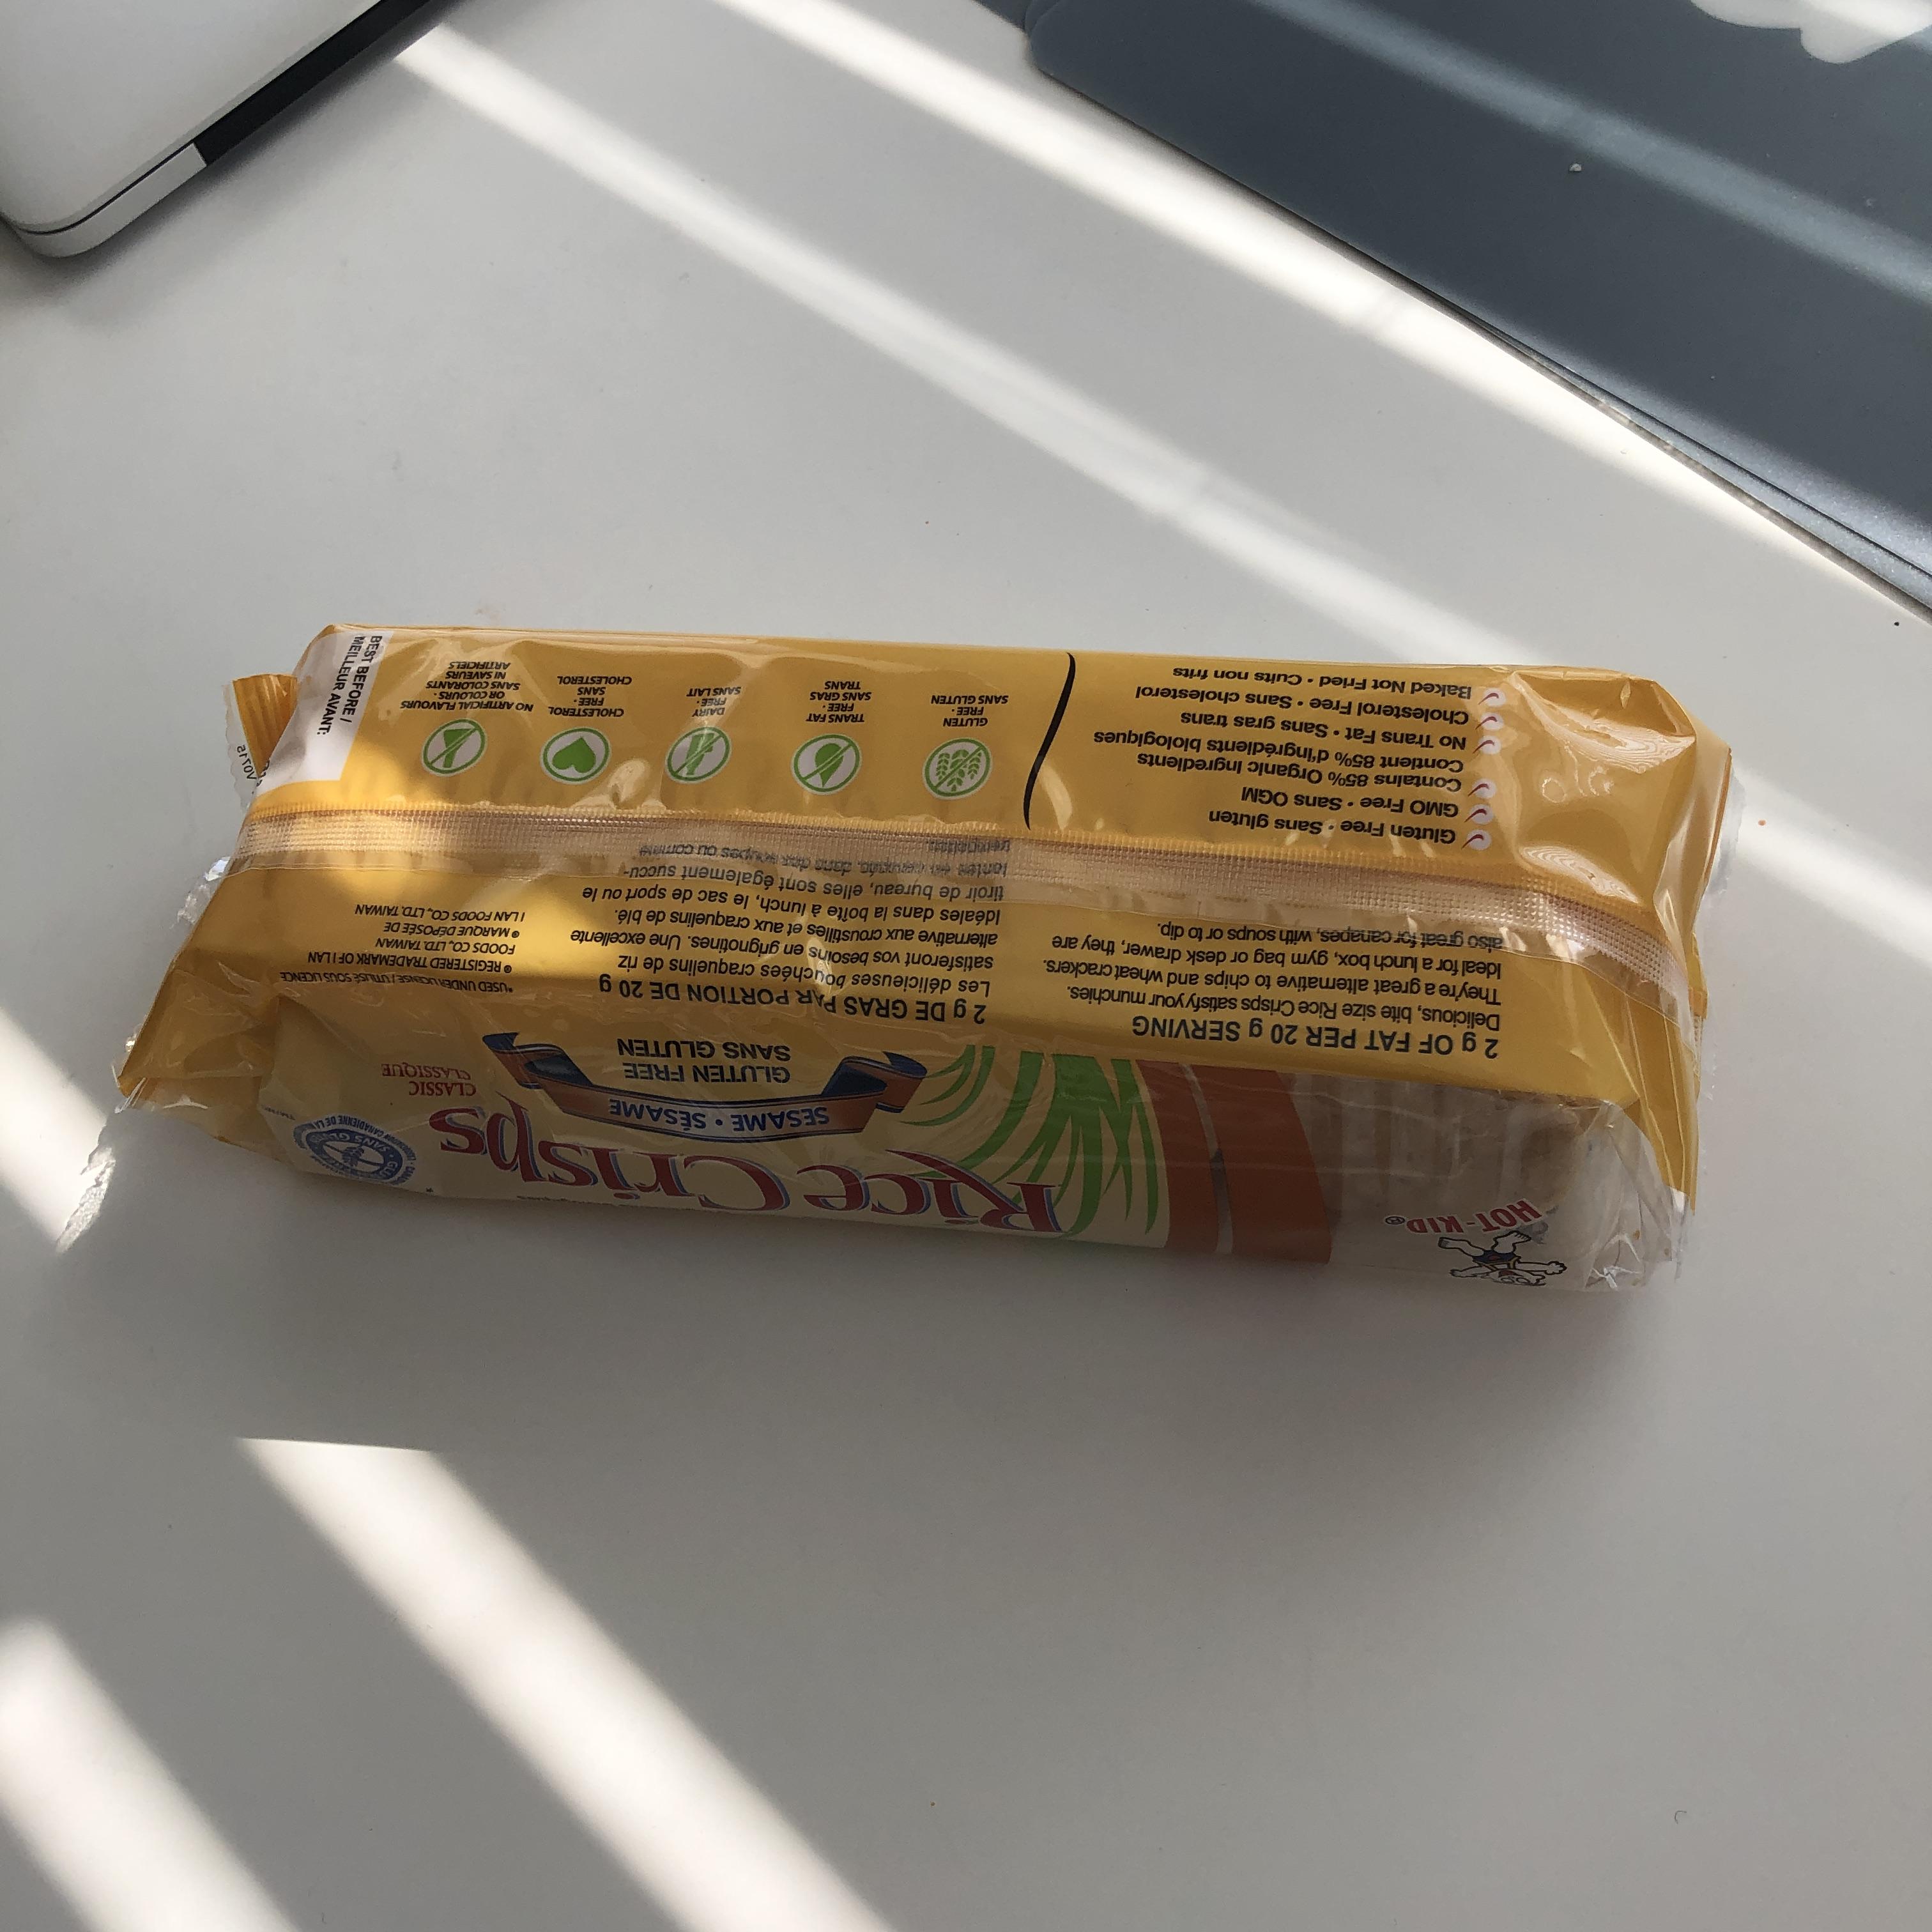hot_kid_rice_crisps_sesame: (618, 256, 1290, 1712)
